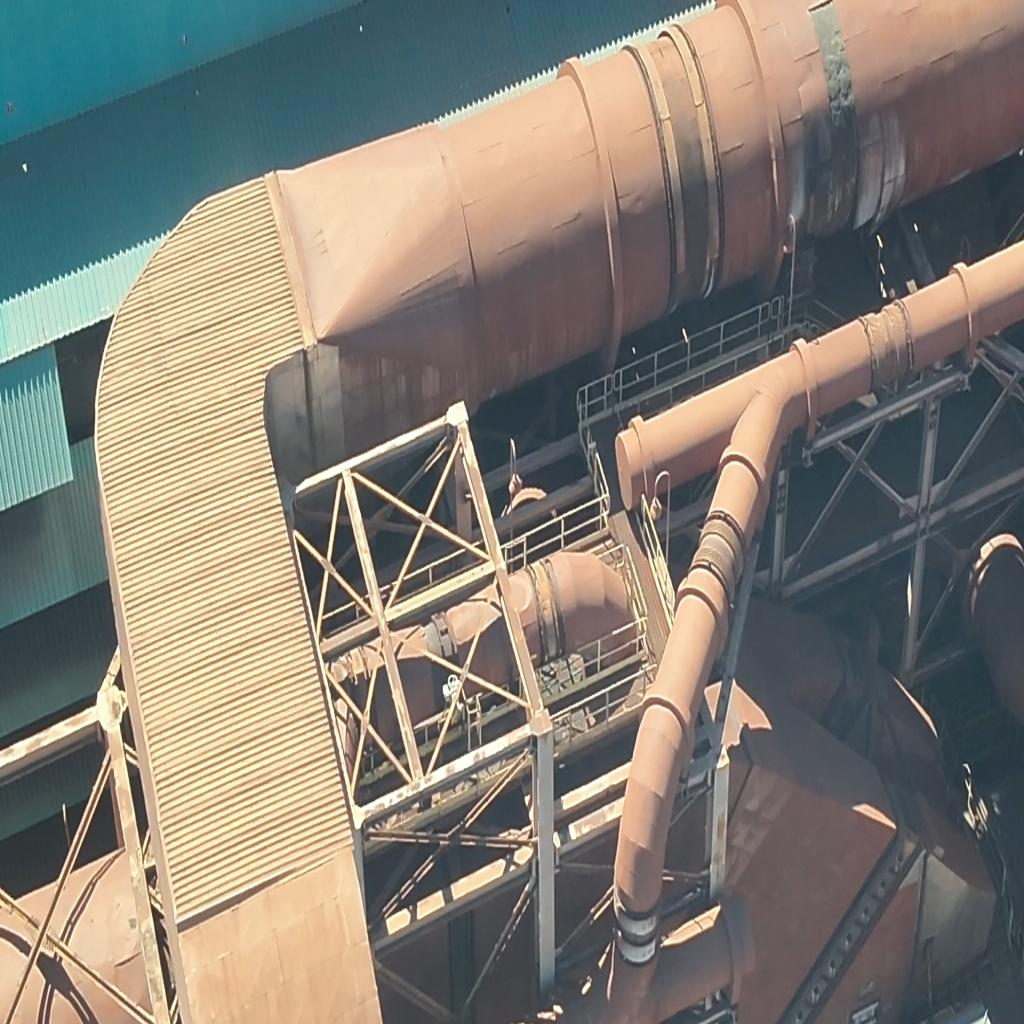Failures: (809, 0, 860, 230)
